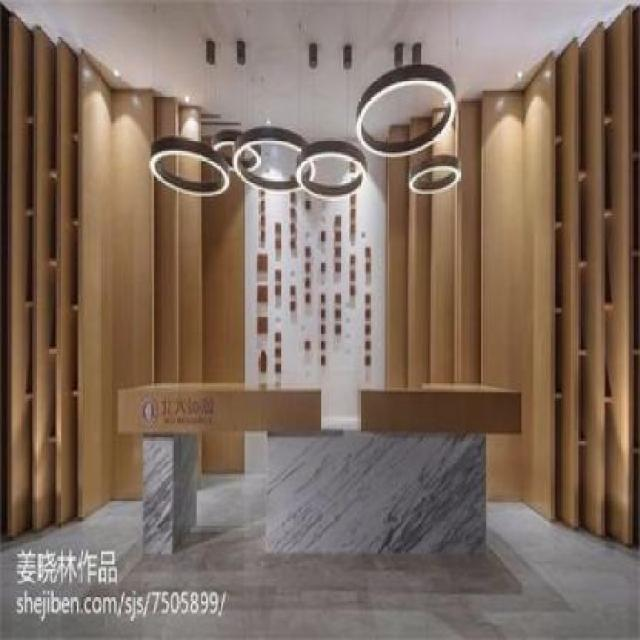frontdesk: (100, 365, 528, 577)
